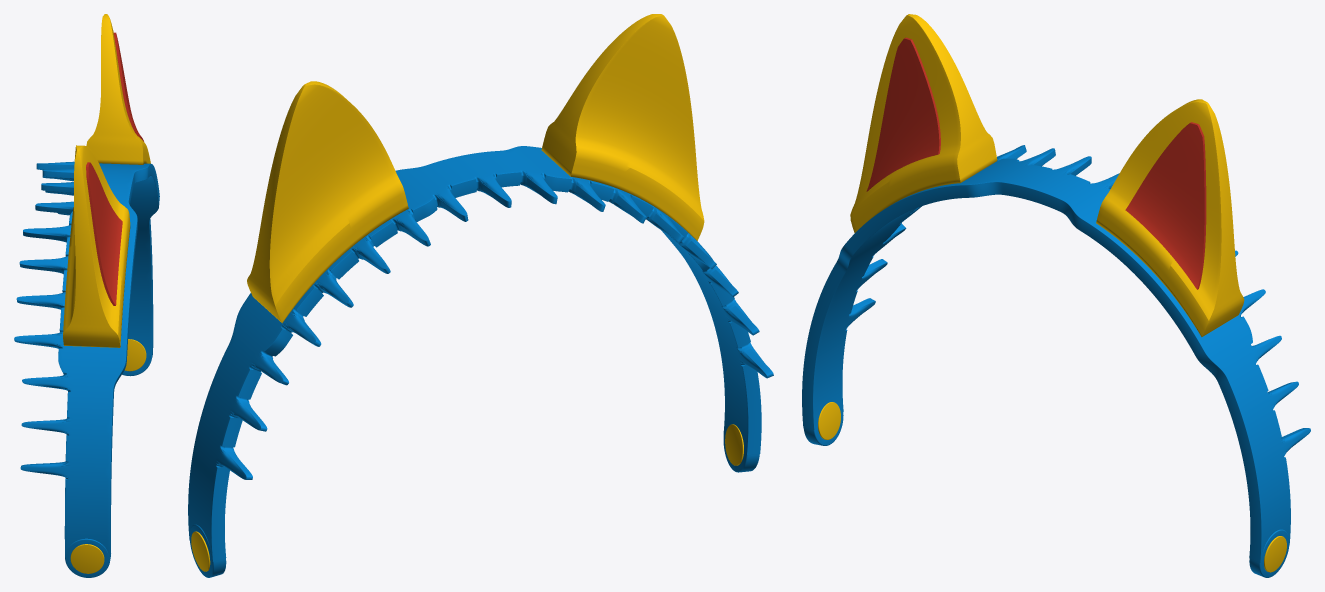
File: tall-sweep.glb
The picture shows the model from 3 angles, left to right: view 1: azimuth 30°, elevation 25°; view 2: azimuth 150°, elevation 25°; view 3: azimuth 270°, elevation 25°; orthographic projection. The views are drawn at different scales.
Parts seen in each view (by area): view 1: tall-sweep-part-001, tall-sweep-part-002, tall-sweep-part-004, tall-sweep-part-003, tall-sweep-part-005; view 2: tall-sweep-part-001, tall-sweep-part-004, tall-sweep-part-002; view 3: tall-sweep-part-001, tall-sweep-part-004, tall-sweep-part-002, tall-sweep-part-005, tall-sweep-part-003.
Part boxes in pixels (x1,y1,x2,y2): tall-sweep-part-001: (14, 161, 159, 577); tall-sweep-part-002: (63, 145, 130, 347); tall-sweep-part-004: (86, 14, 150, 164); tall-sweep-part-003: (86, 162, 122, 305); tall-sweep-part-005: (113, 32, 143, 141); tall-sweep-part-001: (188, 146, 773, 577); tall-sweep-part-004: (247, 81, 408, 323); tall-sweep-part-002: (541, 14, 704, 240); tall-sweep-part-001: (802, 145, 1310, 577); tall-sweep-part-004: (1096, 99, 1244, 336); tall-sweep-part-002: (850, 14, 997, 232); tall-sweep-part-005: (1125, 122, 1206, 289); tall-sweep-part-003: (866, 37, 940, 191).
Size of the model in its own units: 2.35 by 2.89 by 3.
